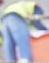gloves: (0, 1, 1, 1)
hard-hat: (0, 17, 25, 55)
vest: (4, 1, 40, 28)
